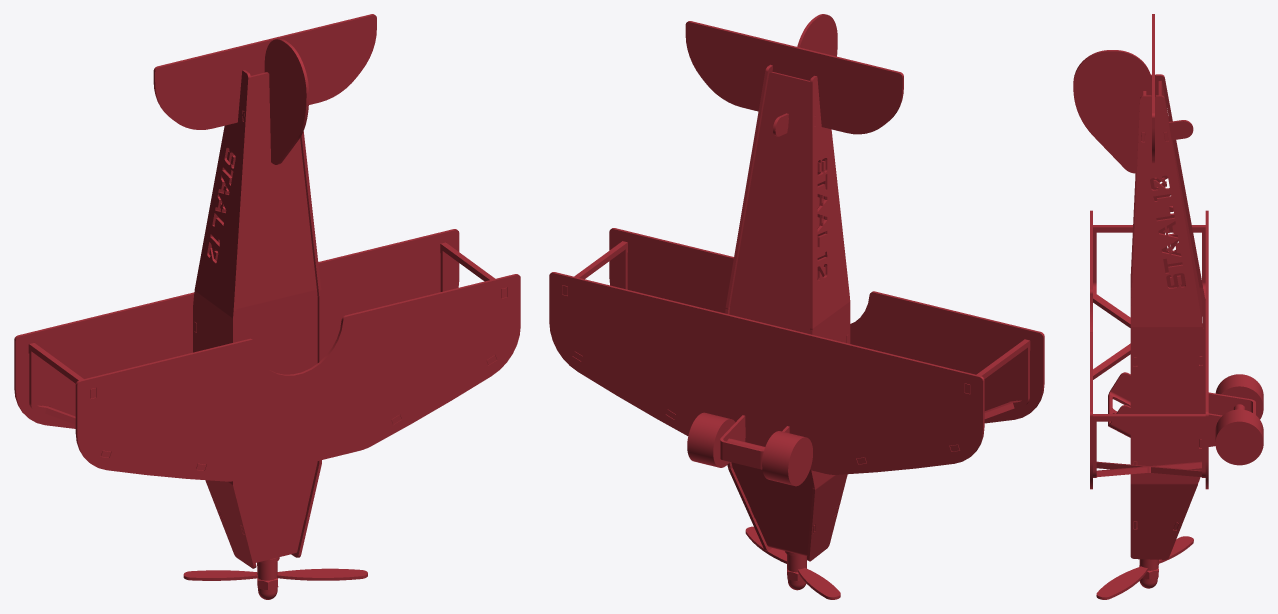
The model's file is 25K0011-201-001 android.glb.
The picture shows the model from 3 angles, left to right: view 1: azimuth 30°, elevation 25°; view 2: azimuth 150°, elevation 25°; view 3: azimuth 270°, elevation 25°; orthographic projection. The views are drawn at different scales.
Visible parts, largest first — view 1: Solid3 (×2), Solid2, Solid4, Solid5 (×4), Solid1 (×2); view 2: Solid4, Solid2 (×3), Solid3 (×3), Solid5 (×4), Solid1 (×2); view 3: Solid1 (×3), Solid5 (×4), Solid2 (×5), Solid3 (×3), Solid4.
Boxes of the visible parts, x1,y1,x2,y2 form: Solid3 (×2): [75, 274, 520, 580]; Solid2: [235, 72, 317, 562]; Solid4: [14, 229, 459, 428]; Solid5 (×4): [28, 14, 507, 470]; Solid1 (×2): [193, 70, 321, 568]; Solid4: [549, 272, 984, 474]; Solid2 (×3): [687, 72, 815, 556]; Solid3 (×3): [609, 228, 1044, 599]; Solid5 (×4): [562, 14, 1030, 464]; Solid1 (×2): [725, 64, 850, 561]; Solid1 (×3): [1130, 74, 1205, 588]; Solid5 (×4): [1073, 14, 1205, 477]; Solid2 (×5): [1108, 80, 1263, 530]; Solid3 (×3): [1090, 210, 1255, 599]; Solid4: [1205, 210, 1208, 489].
Bounding box in the file's own units: 0.25 × 0.3072 × 0.0986.
